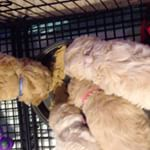puppy: (60, 34, 150, 109), (1, 50, 54, 107)
